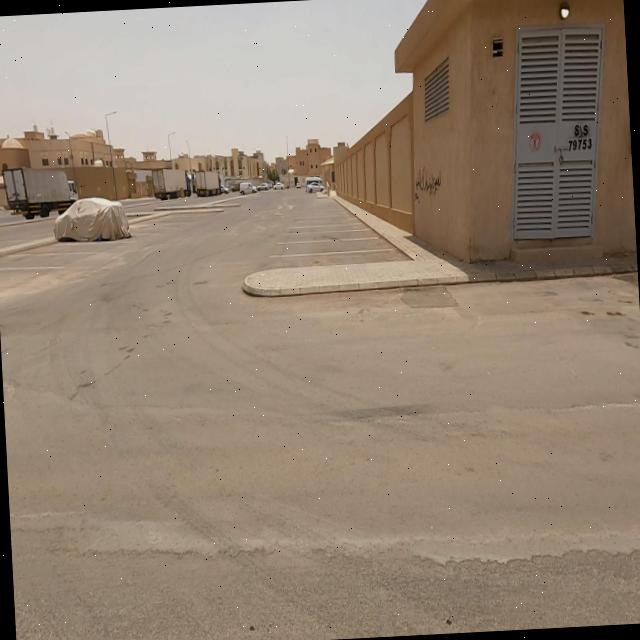Graffiti: (412, 166, 443, 206)
